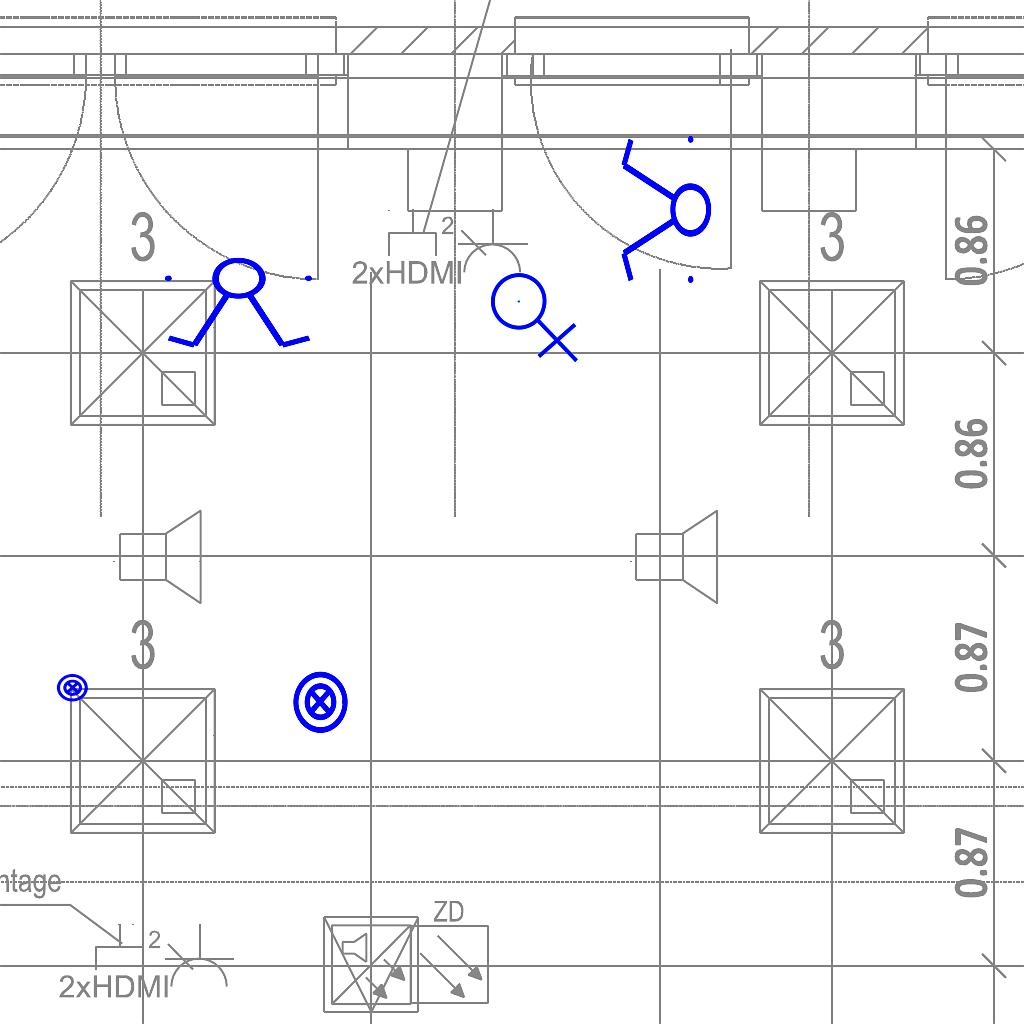Elektroanschluss_allgemein_230V_Geraeteanschlussdose_230V: (489, 264, 583, 363)
Serienschalter: (156, 256, 324, 352), (617, 127, 713, 295)
Taster_beleuchtet: (287, 669, 353, 735), (56, 671, 89, 704)
